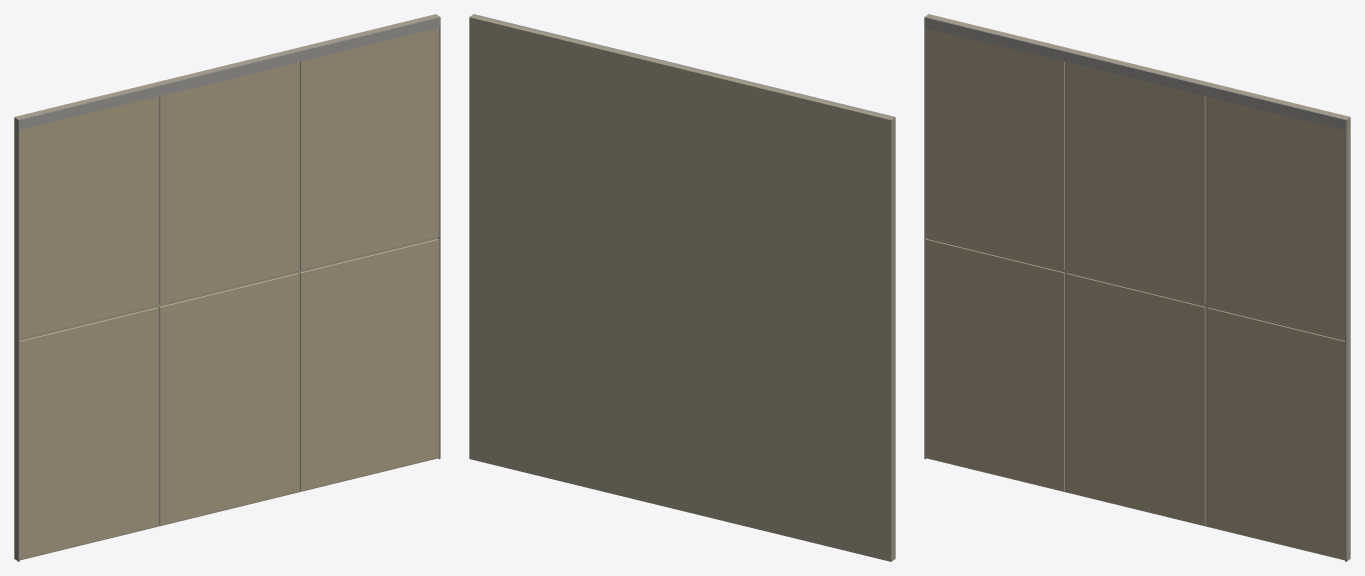
The model's file is tile-splashback-6a7e7a1ad1dc.glb.
The picture shows the model from 3 angles, left to right: view 1: azimuth 30°, elevation 25°; view 2: azimuth 150°, elevation 25°; view 3: azimuth 330°, elevation 25°; orthographic projection.
Visible parts, largest first — view 1: enamel-beige, brushed, plastic-light; view 2: plastic-light, brushed; view 3: enamel-beige, brushed, plastic-light.
Boxes of the visible parts, <box> form: enamel-beige: <box>20,28,438,559</box>; brushed: <box>17,16,440,561</box>; plastic-light: <box>14,14,438,560</box>; plastic-light: <box>469,15,894,561</box>; brushed: <box>473,14,895,558</box>; enamel-beige: <box>926,28,1344,559</box>; brushed: <box>924,16,1347,561</box>; plastic-light: <box>926,14,1350,560</box>.
Bounding box in the file's own units: 0.6 × 0.6 × 0.011.
